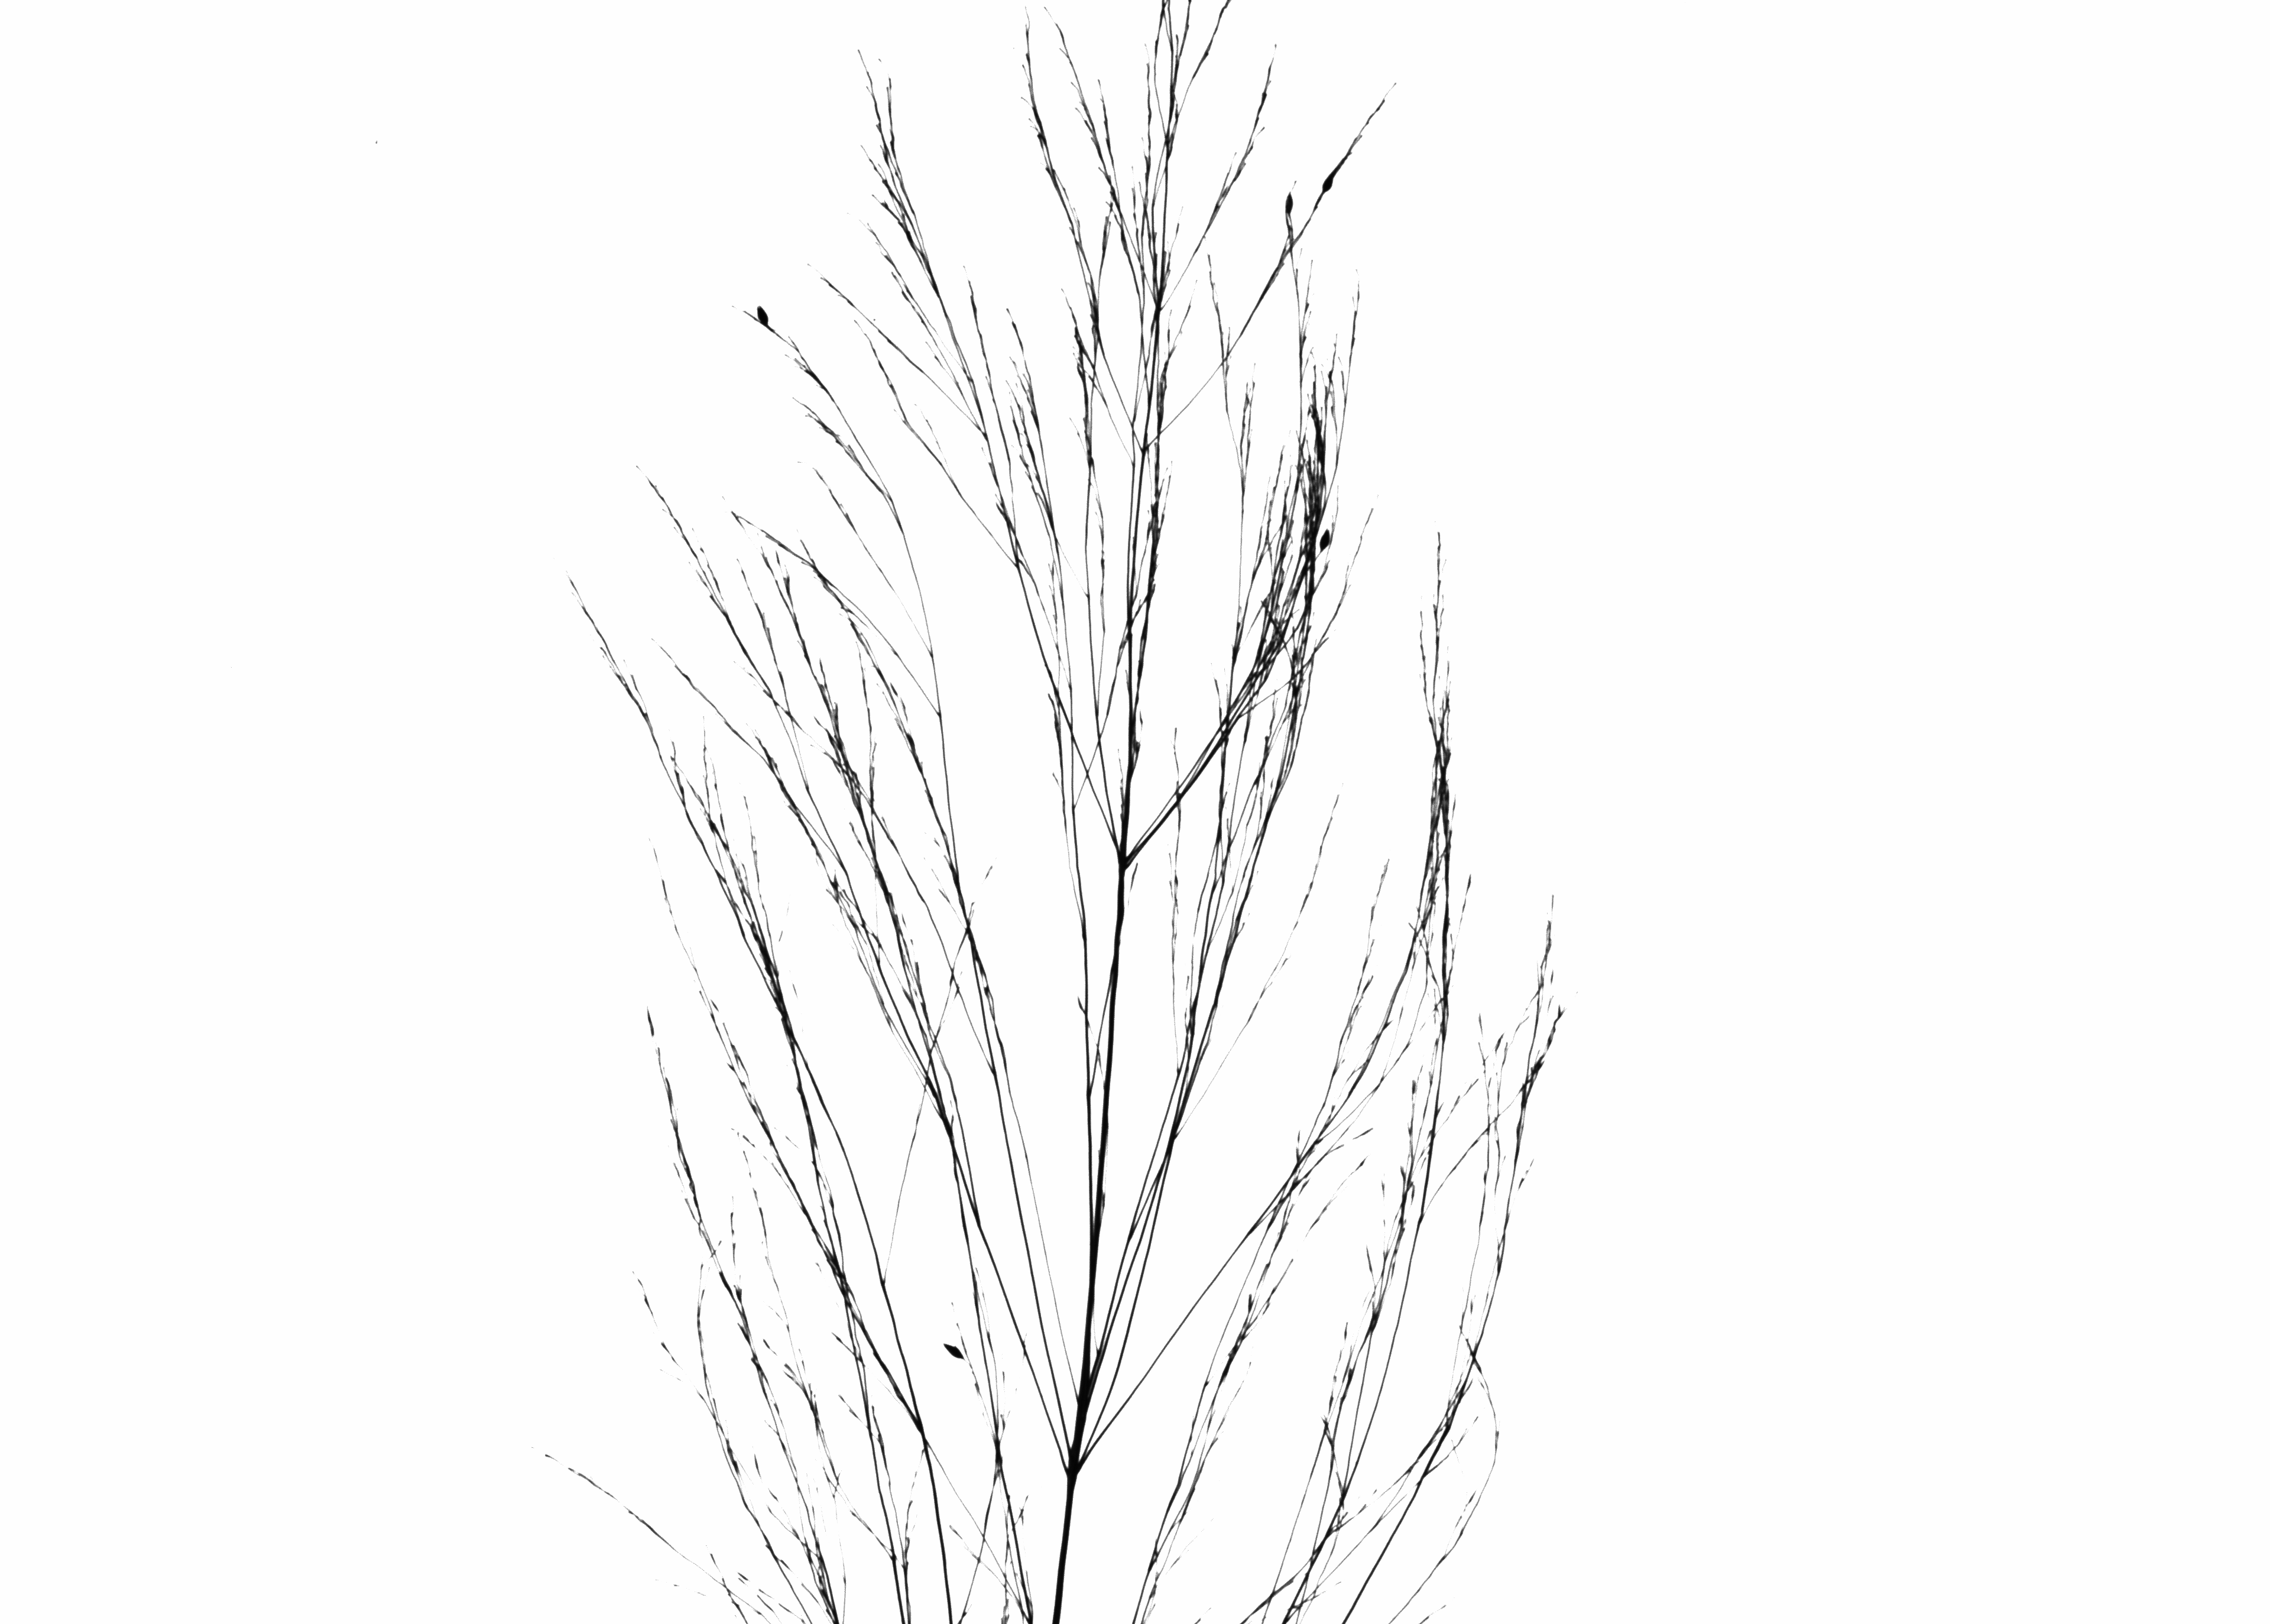seed: (1315, 520, 1336, 559), (1317, 163, 1340, 199), (751, 299, 772, 330), (939, 1339, 967, 1362), (1282, 188, 1299, 218)
